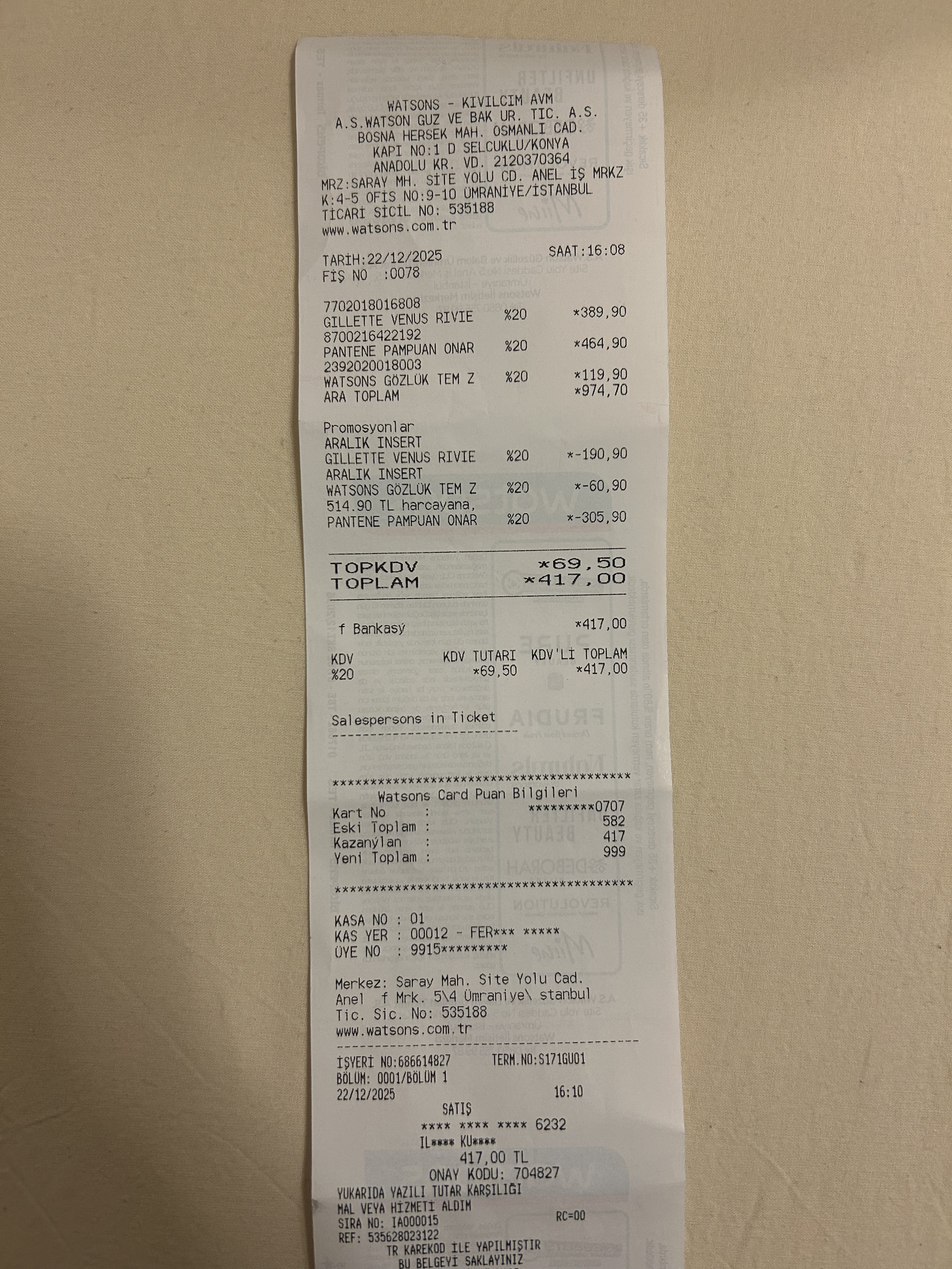date: (366, 246, 445, 267)
price: (536, 570, 635, 590)
workplace: (329, 87, 607, 157)
